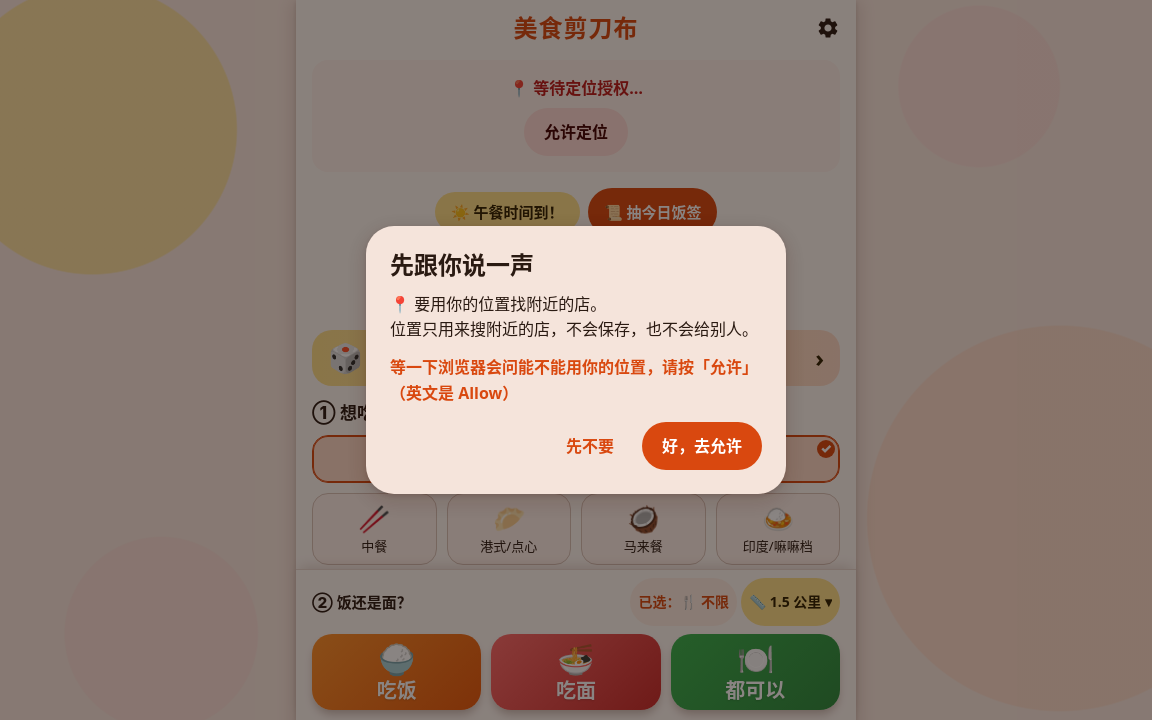
Scenario: 定位（功能清单第四节、31.4，测试 WEB-16） › 第一次打开、还没有权限：先显示中文说明，按「好，去允许」才让浏览器问
Click the button "好，去允许" at [702, 446], box [642, 422, 762, 470]
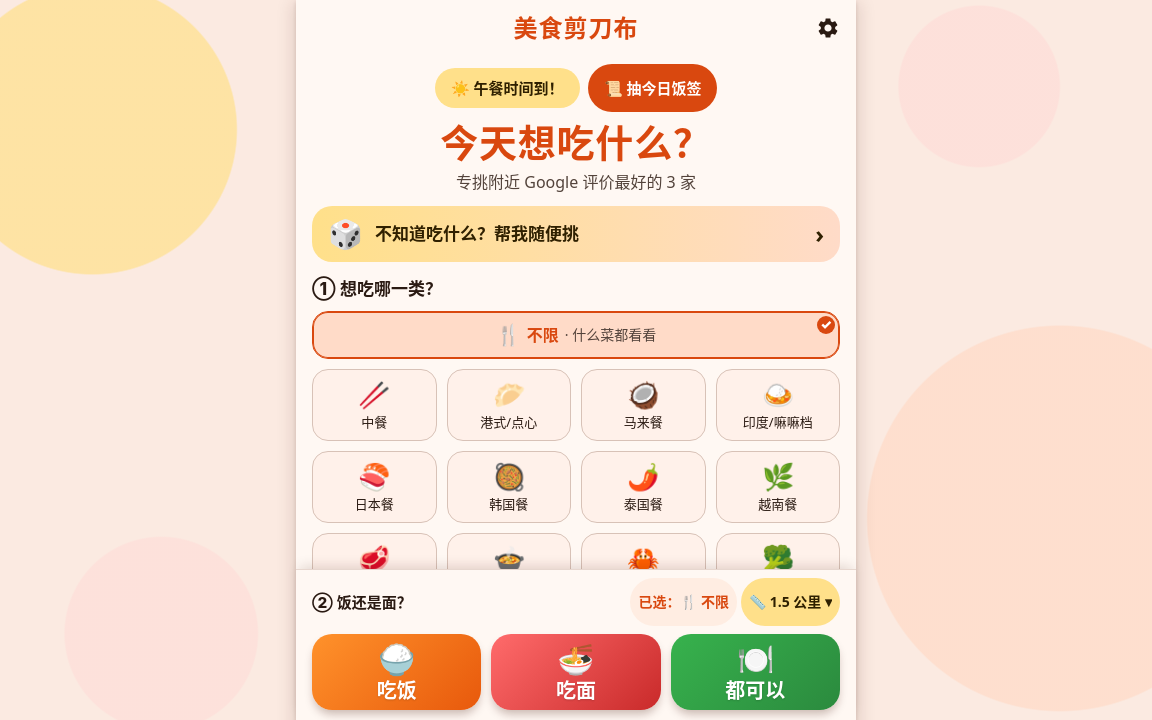
Now the dialog is gone
